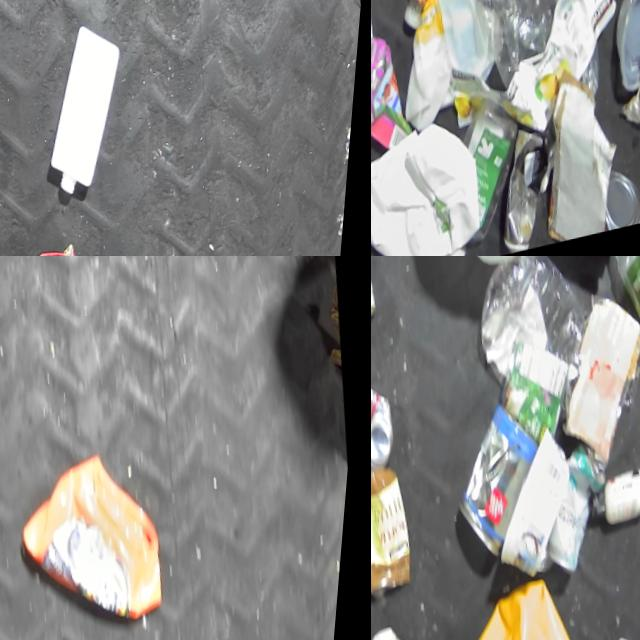can: (446, 400, 563, 581), (537, 443, 628, 589), (500, 357, 578, 465), (371, 372, 411, 490), (601, 171, 640, 244), (371, 615, 447, 640)
milk_jug: (462, 0, 630, 163), (36, 22, 147, 211), (387, 0, 518, 152), (371, 118, 503, 256), (407, 256, 571, 287)
non_white_jug: (9, 444, 185, 640), (414, 563, 617, 640)
